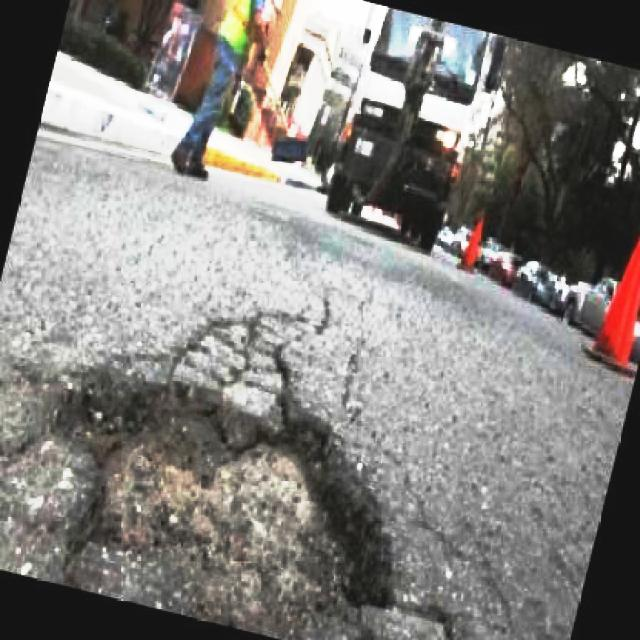pothole: (38, 363, 400, 639)
